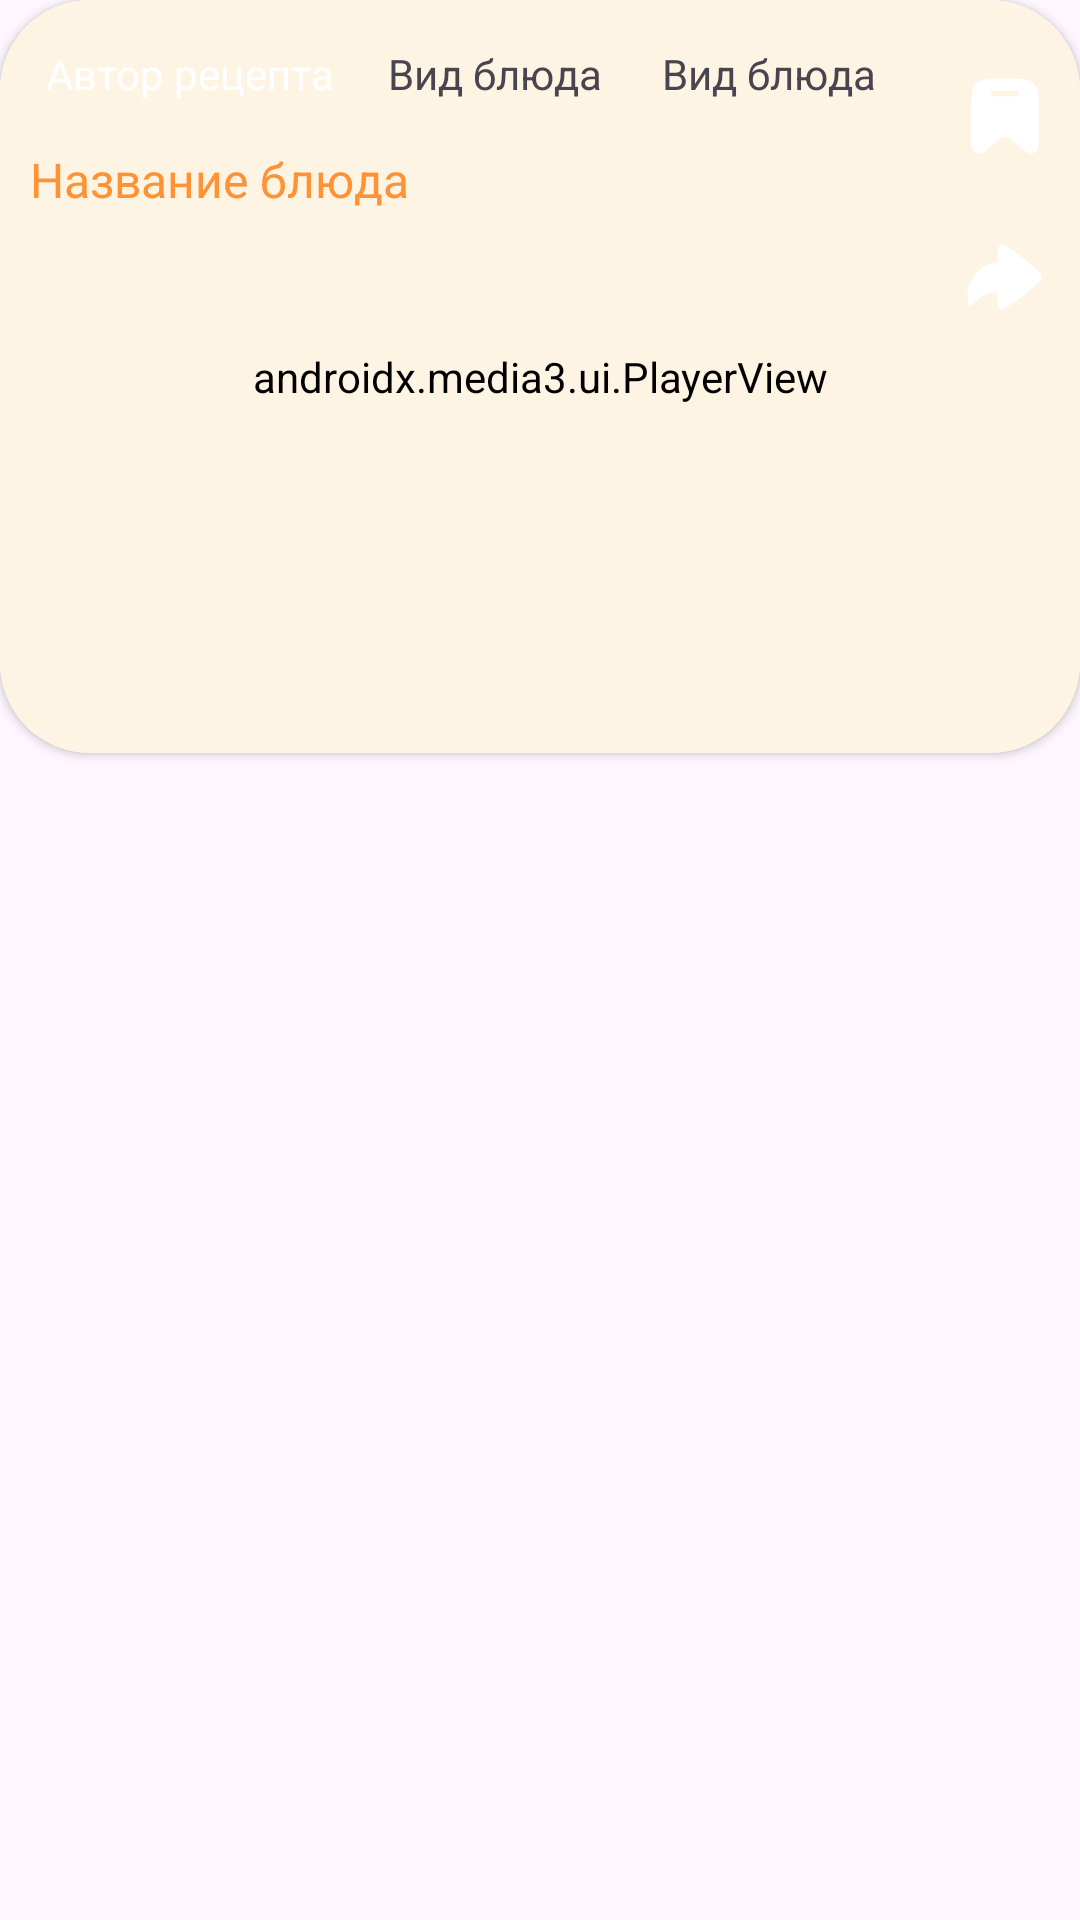

Where icons sit on this 1080*1920 app screen, as bbox(x1, y1, x2, y2):
bookmark video: bbox(972, 79, 1038, 153)
share video: bbox(968, 245, 1041, 309)
